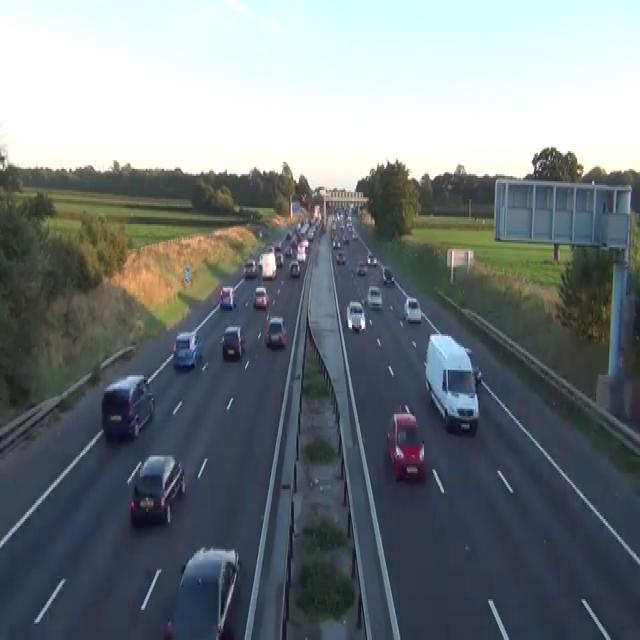Car: (163, 546, 240, 638), (129, 454, 185, 526), (101, 373, 155, 441), (386, 404, 424, 482), (172, 331, 202, 368), (220, 325, 245, 359), (464, 347, 482, 389), (264, 314, 286, 346), (346, 300, 366, 332), (403, 297, 421, 322), (219, 284, 236, 310), (253, 286, 268, 310), (367, 284, 382, 308), (243, 260, 257, 278), (382, 266, 394, 284), (473, 364, 482, 388), (289, 260, 300, 278), (355, 260, 367, 276), (0, 146, 8, 170), (366, 252, 377, 265), (296, 247, 306, 261), (275, 250, 283, 266), (336, 251, 345, 265), (283, 244, 293, 256), (299, 238, 308, 251), (257, 252, 263, 270), (332, 238, 341, 249), (265, 244, 274, 254), (306, 229, 314, 240), (300, 192, 307, 204), (342, 233, 350, 243), (274, 240, 281, 251), (284, 231, 292, 240), (351, 230, 358, 238), (331, 222, 336, 233), (346, 215, 352, 224), (258, 228, 262, 238)
Truck: (423, 332, 481, 434), (260, 251, 276, 279)
